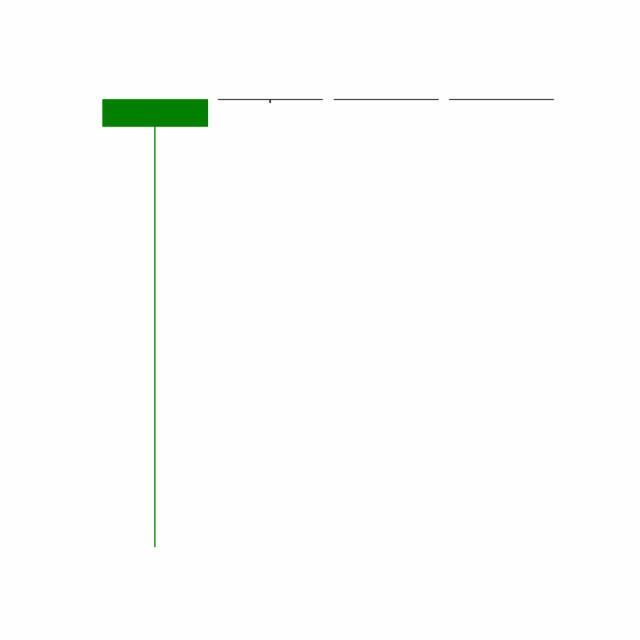Hanging Man: (444, 98, 558, 100)
